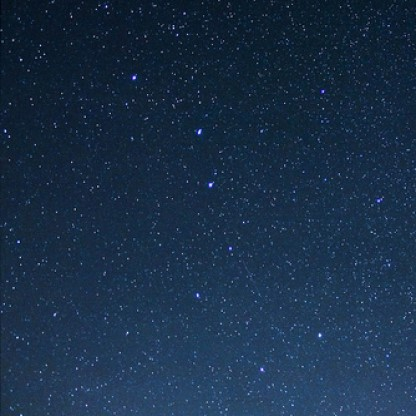Ursa Major: (198, 166, 223, 199), (185, 117, 209, 142), (213, 232, 238, 256), (307, 323, 332, 347), (122, 67, 147, 89), (249, 357, 269, 382), (186, 285, 209, 306)
